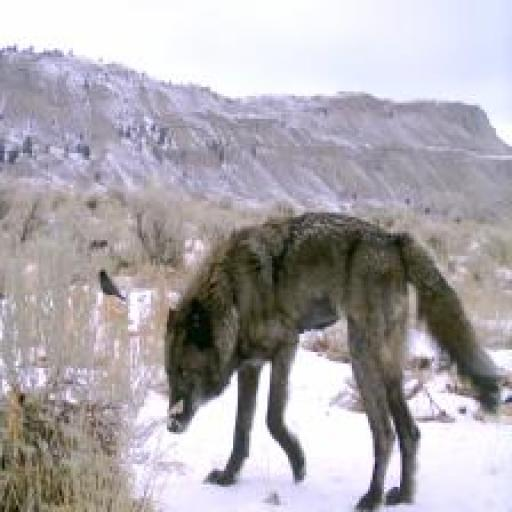wolf: (153, 203, 512, 511)
